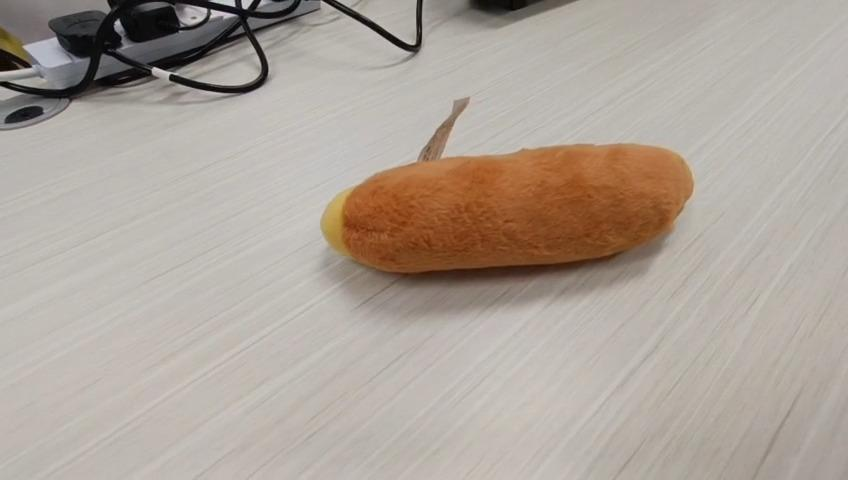hotdog: (321, 96, 694, 273)
